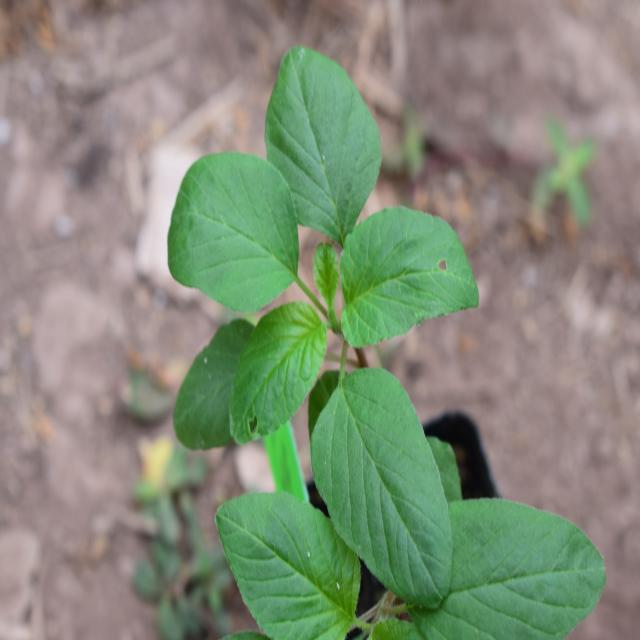pigweed: (154, 50, 477, 584)
